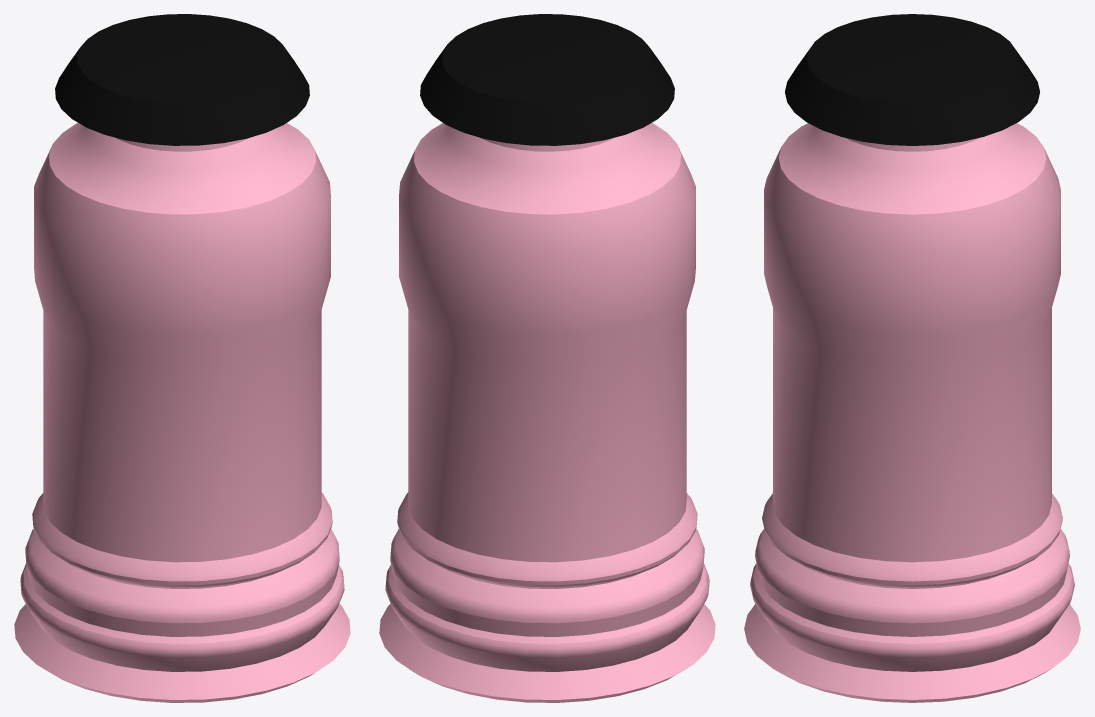
File: bottle18.glb
3 renders of one model, left to right at view 1: azimuth 30°, elevation 25°; view 2: azimuth 150°, elevation 25°; view 3: azimuth 270°, elevation 25°, orthographic.
Parts seen in each view (by area): view 1: Bottle18; view 2: Bottle18; view 3: Bottle18.
Boxes of the visible parts, box(x1,y1,x2,y2) form: Bottle18: box(14, 14, 350, 702); Bottle18: box(379, 14, 715, 702); Bottle18: box(744, 14, 1080, 702).
Bounding box in the file's own units: 1.01 × 1.92 × 1.01.
